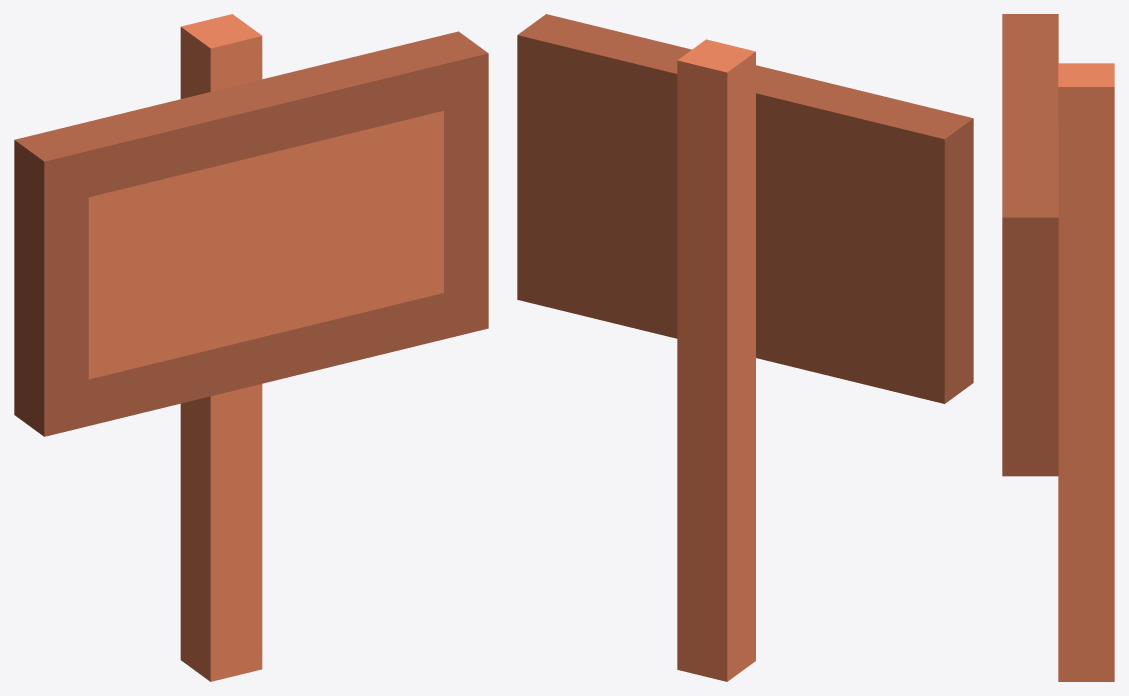
File: sign.obj
3 renders of one model, left to right at view 1: azimuth 30°, elevation 25°; view 2: azimuth 150°, elevation 25°; view 3: azimuth 270°, elevation 25°, orthographic. The views are drawn at different scales.
Size of the model in its own units: 0.3 by 0.4088 by 0.07.
